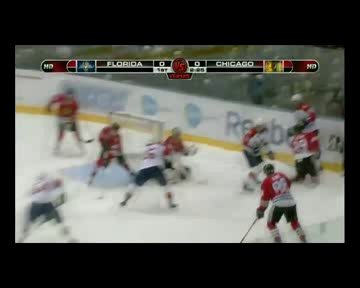normal: (244, 163, 309, 238), (20, 164, 77, 243), (43, 84, 94, 155)
